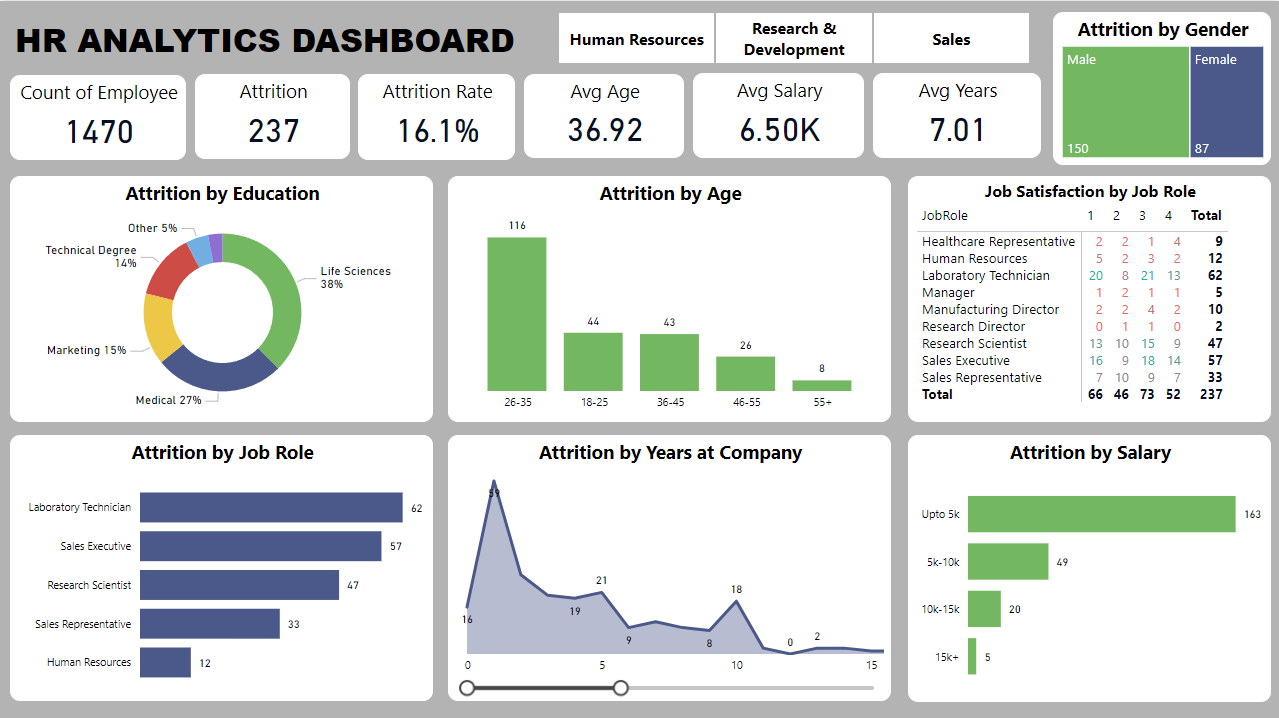

The page's visual inventory and layout, read from the dashboard file:
{"tool":"powerbi","page":{"name":"Page 1","canvas":[1280,720],"ordinal":0},"visuals":[{"type":"card","title":"Count of Employee","fields":{"Values":["CountNonNull(HR_Analytics.EmpID)"]},"box":[9.7,73.9,176,84.6],"z":0},{"type":"card","title":"Attrition","fields":{"Values":["Sum(HR_Analytics.AttritionCount)"]},"box":[194.5,72.9,155.6,84.6],"z":1000},{"type":"card","title":"Attrition Rate","fields":{"Values":["HR_Analytics.AttritionRate"]},"box":[357.9,72.9,156.6,85.6],"z":2000},{"type":"card","title":"Avg Age","fields":{"Values":["Avg(HR_Analytics.Age)"]},"box":[524.3,72.9,159.5,83.6],"z":3000},{"type":"card","title":"Avg Salary","fields":{"Values":["Avg(HR_Analytics.MonthlyIncome)"]},"box":[693.5,72,170.2,84.6],"z":4000},{"type":"card","title":"Avg Years","fields":{"Values":["Avg(HR_Analytics.YearsAtCompany)"]},"box":[873.4,72,167.3,84.6],"z":5000},{"type":"donutChart","title":"Attrition by Education","fields":{"Category":["HR_Analytics.EducationField"],"Y":["Sum(HR_Analytics.AttritionCount)"]},"box":[9.7,175.1,423.1,246.1],"z":6000},{"type":"columnChart","title":" Attrition by Age","fields":{"Category":["HR_Analytics.AgeGroup"],"Y":["Sum(HR_Analytics.AttritionCount)"]},"box":[448.4,175.1,442.6,246.1],"z":7000},{"type":"pivotTable","title":"Job Satisfaction by Job Role","fields":{"Rows":["HR_Analytics.JobRole"],"Columns":["HR_Analytics.JobSatisfaction"],"Values":["Sum(HR_Analytics.AttritionCount)"]},"box":[908.4,175.1,362.8,246.1],"z":8000},{"type":"barChart","title":" Attrition by Salary","fields":{"Category":["HR_Analytics.SalarySlab"],"Y":["Sum(HR_Analytics.AttritionCount)"]},"box":[908.4,433.8,362.8,267.5],"z":9000},{"type":"barChart","title":" Attrition by Job Role","fields":{"Y":["Sum(HR_Analytics.AttritionCount)"],"Category":["HR_Analytics.JobRole"]},"box":[9.7,433.8,423.1,266.5],"z":10000},{"type":"areaChart","title":" Attrition by Years at Company","fields":{"Category":["HR_Analytics.YearsAtCompany"],"Y":["Sum(HR_Analytics.AttritionCount)"]},"box":[448.4,433.8,442.6,266.5],"z":11000},{"type":"treemap","title":" Attrition by Gender","fields":{"Group":["HR_Analytics.Gender"],"Values":["Sum(HR_Analytics.AttritionCount)"]},"box":[1053.4,10.7,217.9,153.7],"z":12000},{"type":"slicer","fields":{"Values":["HR_Analytics.Department"]},"box":[536.9,2.9,512.6,64.2],"z":13000},{"type":"textbox","box":[1011,451,269,155],"z":14000},{"type":"textbox","box":[9.7,10.7,540.8,63.2],"z":15000}]}

Visuals, with their boxes in screenshot pixels (x1, y1, x2, y2), scaled from the page's 1280x720 canvas onto the 1279x718 screenshot:
"Count of Employee" card: [10,74,186,158]
"Attrition" card: [194,73,350,157]
"Attrition Rate" card: [358,73,514,158]
"Avg Age" card: [524,73,683,156]
"Avg Salary" card: [693,72,863,156]
"Avg Years" card: [873,72,1040,156]
"Attrition by Education" donutChart: [10,175,432,420]
" Attrition by Age" columnChart: [448,175,890,420]
"Job Satisfaction by Job Role" pivotTable: [908,175,1270,420]
" Attrition by Salary" barChart: [908,433,1270,699]
" Attrition by Job Role" barChart: [10,433,432,698]
" Attrition by Years at Company" areaChart: [448,433,890,698]
" Attrition by Gender" treemap: [1053,11,1270,164]
slicer - HR_Analytics.Department: [536,3,1049,67]
textbox: [1010,450,1278,604]
textbox: [10,11,550,74]
